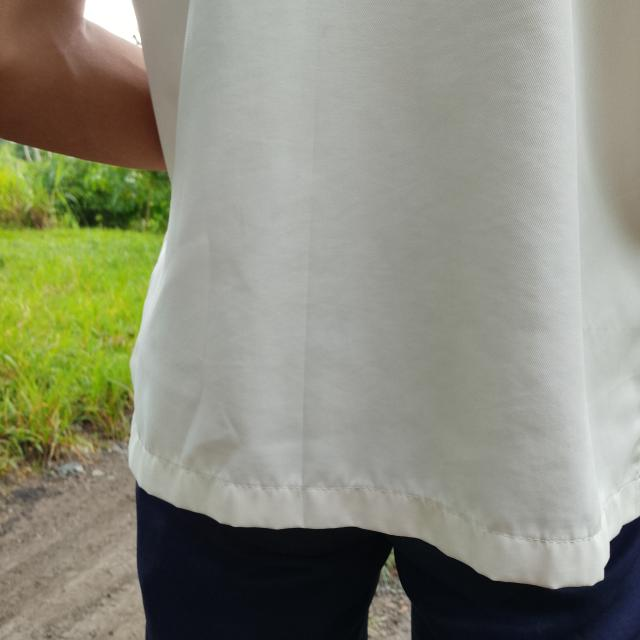education_male_uniform: (1, 2, 626, 625)
